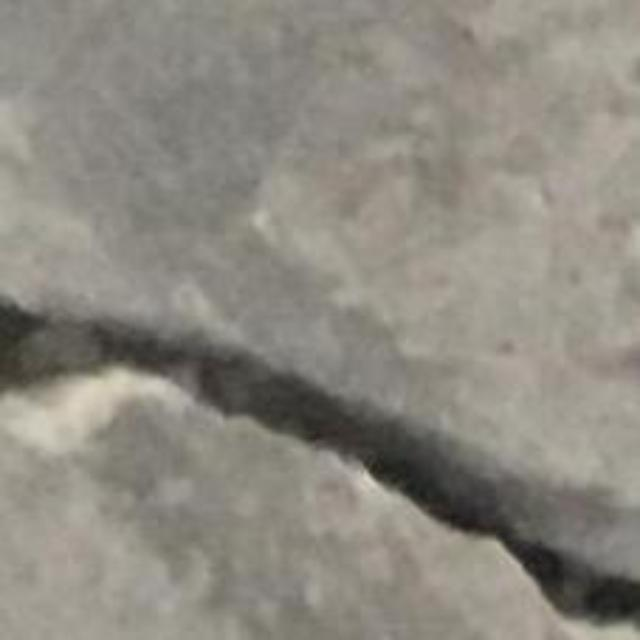crack: (0, 299, 639, 628)
